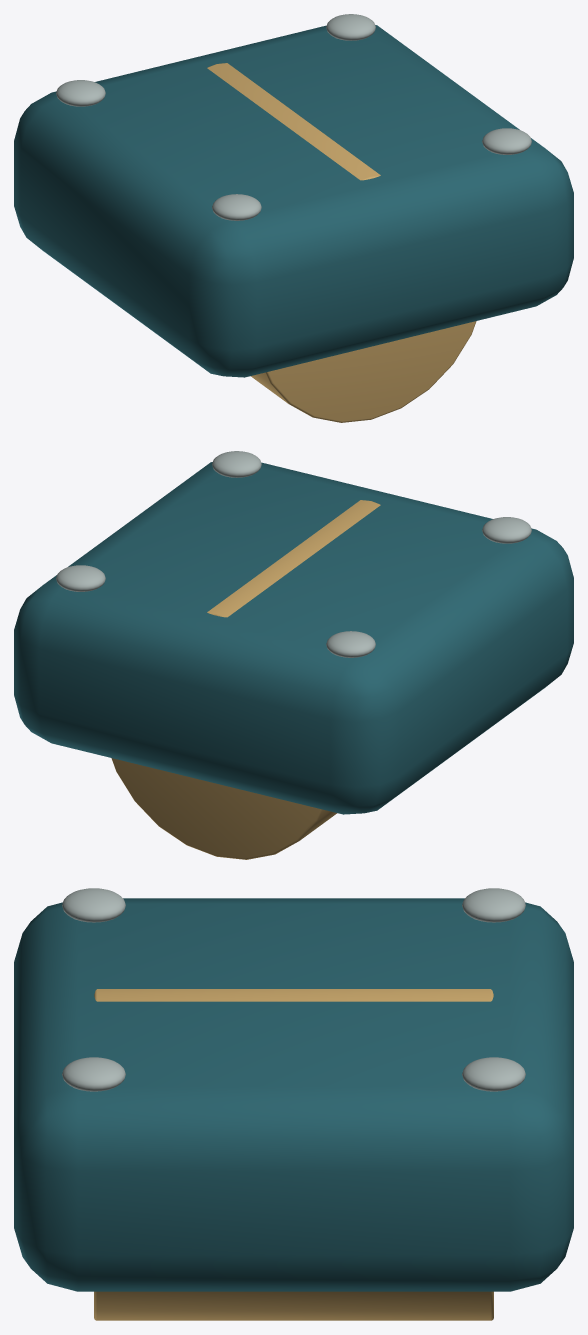
File: arm_base.glb
3 views of the same model, one above another, from view 1: azimuth 30°, elevation 25°; view 2: azimuth 150°, elevation 25°; view 3: azimuth 270°, elevation 25° (orthographic). The views are drawn at different scales.
Parts seen in each view (by area): view 1: Subsea arm pedestal, Shoulder shaft, Anchor bolt.003, Anchor bolt, Anchor bolt.001, Anchor bolt.002; view 2: Subsea arm pedestal, Shoulder shaft, Anchor bolt.002, Anchor bolt.001, Anchor bolt, Anchor bolt.003; view 3: Subsea arm pedestal, Shoulder shaft, Anchor bolt, Anchor bolt.001, Anchor bolt.002, Anchor bolt.003.
Boxes of the visible parts, box(x1,y1,x2,y2) form: Subsea arm pedestal: box(14, 25, 573, 377); Shoulder shaft: box(207, 63, 476, 422); Anchor bolt.003: box(482, 128, 531, 154); Anchor bolt: box(56, 80, 105, 106); Anchor bolt.001: box(212, 194, 261, 220); Anchor bolt.002: box(326, 14, 375, 40); Subsea arm pedestal: box(14, 462, 573, 814); Shoulder shaft: box(111, 500, 380, 859); Anchor bolt.002: box(56, 565, 105, 591); Anchor bolt.001: box(482, 517, 531, 543); Anchor bolt: box(326, 631, 375, 657); Anchor bolt.003: box(212, 451, 261, 477); Subsea arm pedestal: box(14, 898, 573, 1291); Shoulder shaft: box(94, 989, 493, 1320); Anchor bolt: box(462, 888, 525, 922); Anchor bolt.001: box(62, 888, 125, 922); Anchor bolt.002: box(462, 1057, 525, 1091); Anchor bolt.003: box(62, 1057, 125, 1091).
Bounding box in the file's own units: 0.14 × 0.09 × 0.14.
